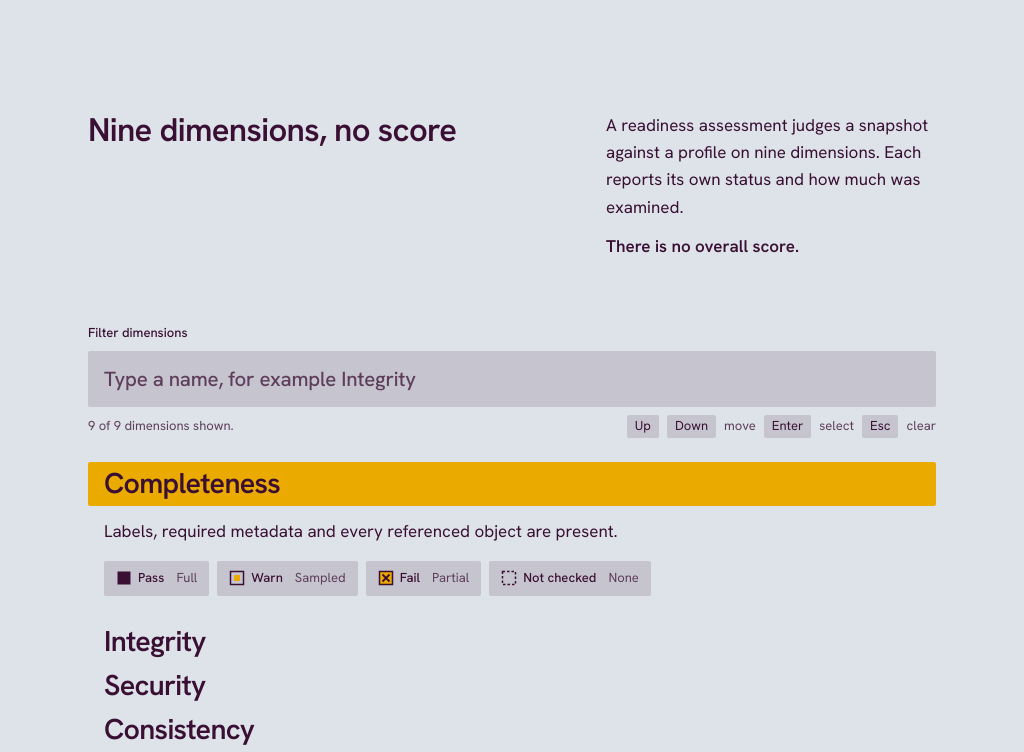
Test: Readiness section › selects a name on click and says there is no score
The image size is (1024, 752).
Click the button "Security" at [155, 685], box 88,664 -> 936,708
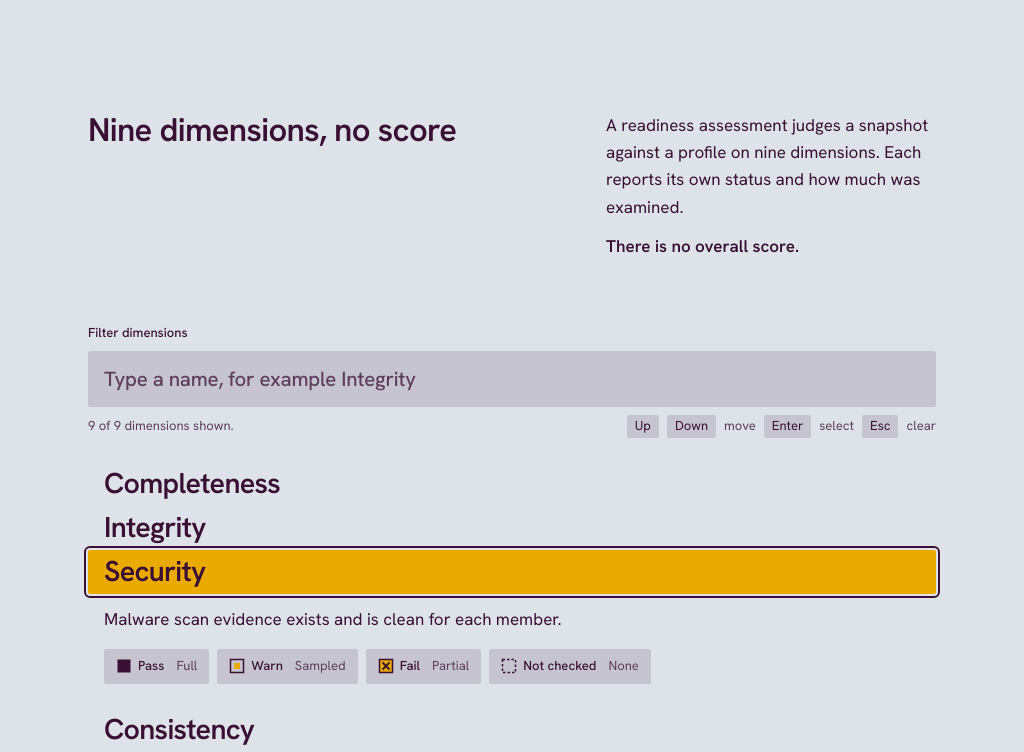
Check: the text "There is no overall score." is shown, box 606,235 -> 799,257
Check: the button "Security" is expanded, box 88,550 -> 936,594
